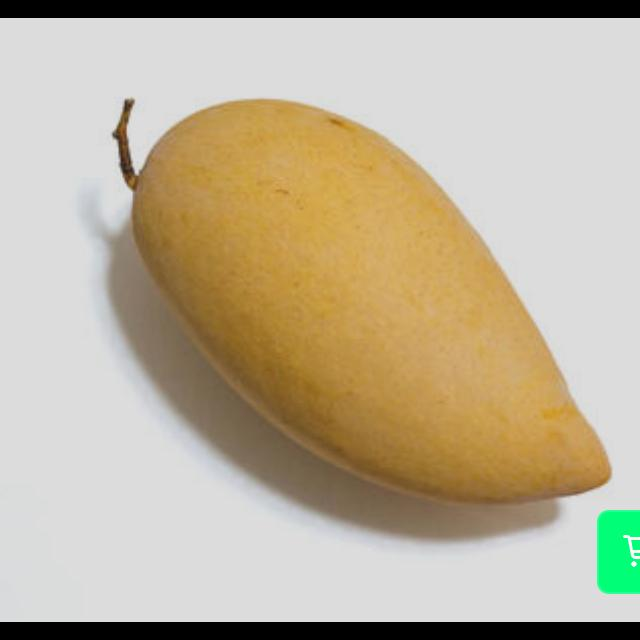mango: (134, 98, 619, 507)
